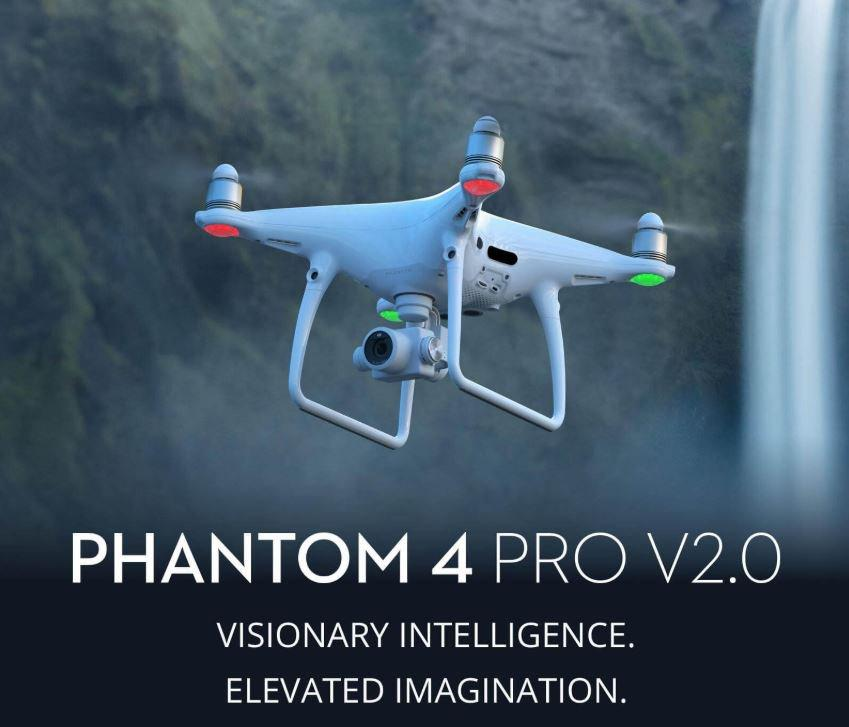drone: (175, 118, 707, 373)
